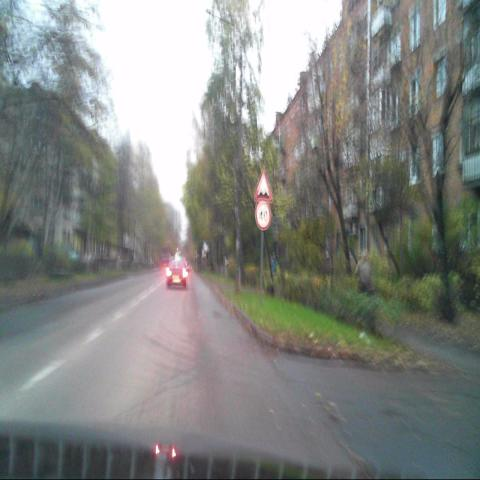1_16: (254, 168, 272, 201)
